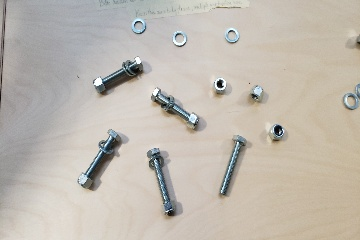Bolt: (215, 133, 248, 199)
FalseAssembly: (75, 128, 124, 190), (144, 147, 180, 216)
FinishedAssembly: (150, 86, 200, 133), (91, 54, 146, 93)
Nut: (266, 123, 287, 141), (250, 83, 264, 101), (214, 77, 228, 93)
Washer: (130, 19, 146, 34), (172, 31, 187, 47), (225, 28, 240, 44), (344, 94, 359, 110)
